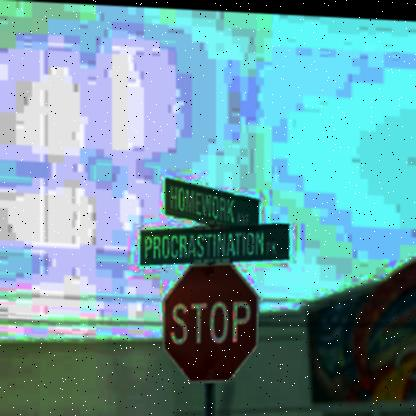Stop Sign: (153, 251, 264, 384)
